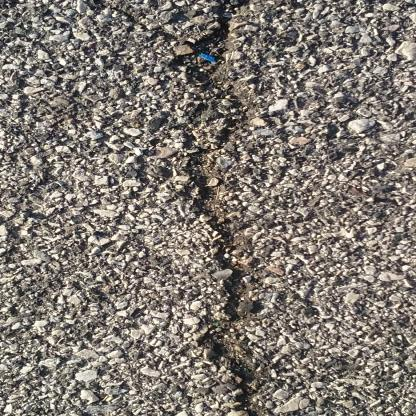Cracks: (181, 0, 293, 416)
